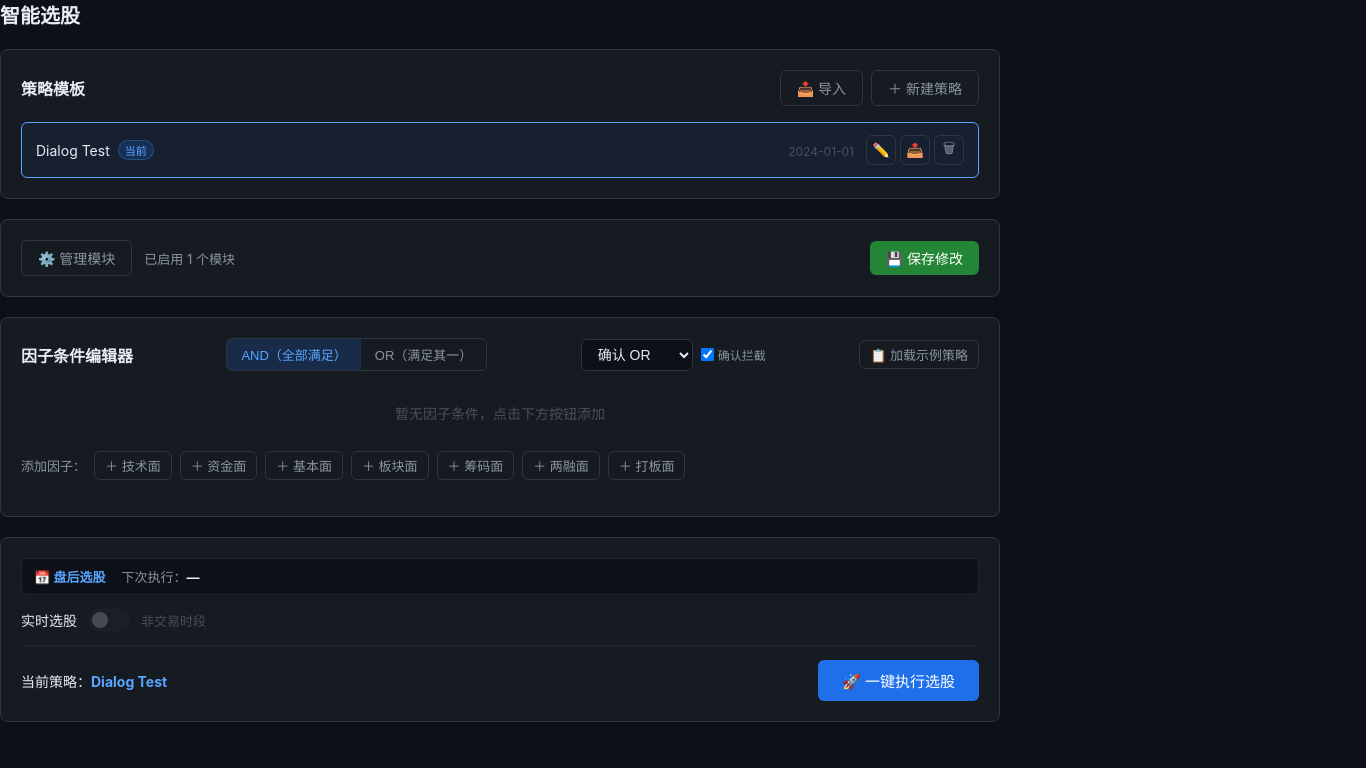
Test case: ScreenerView - strategy example loader › opens strategy example dialog when button is clicked
Click the button with class "btn-outline" showing "📋 加载示例策略": {"x": 919, "y": 354} [859,340,979,369]
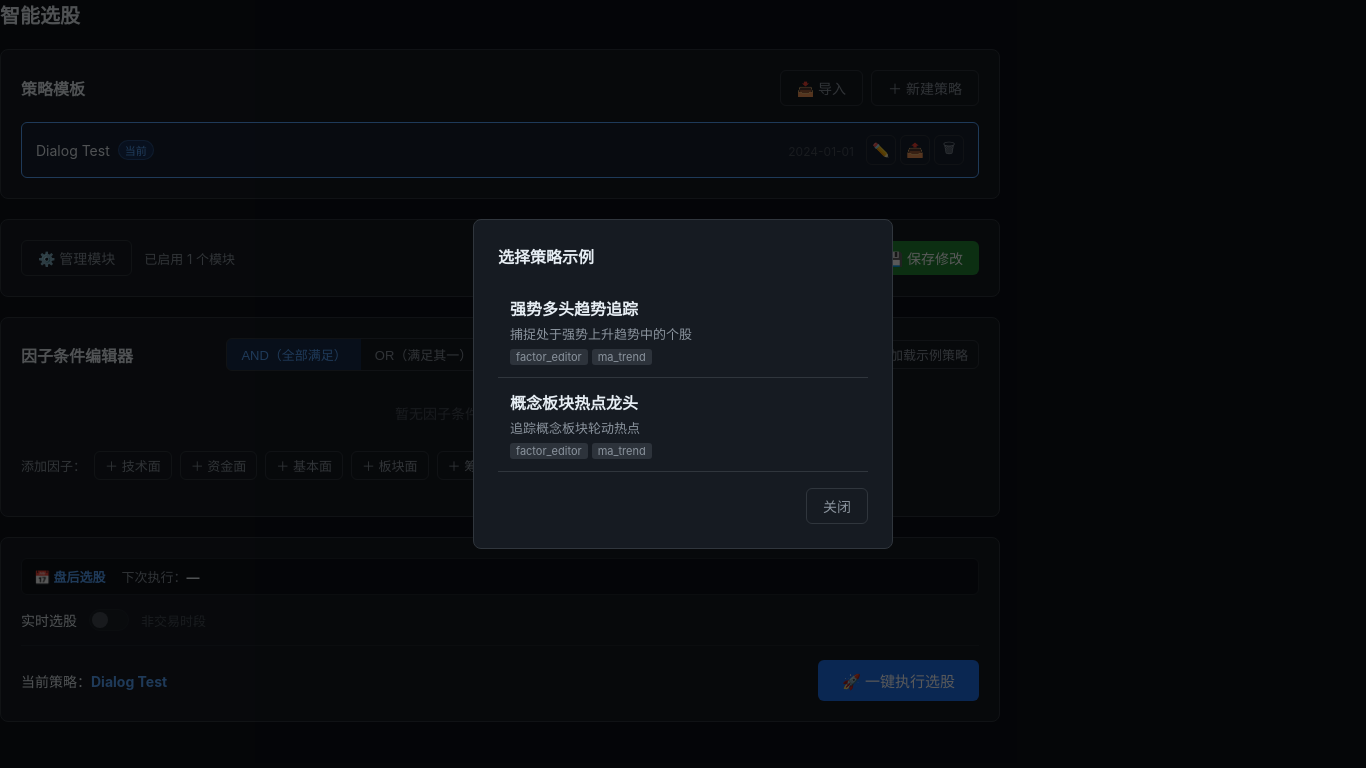
expect the dialog named "加载示例策略" is shown: met, box [473,219,893,549]
expect the number of elements with class "example-item" is 2: met, box [498,284,868,378]; [498,378,868,472]
expect the text with class "example-name" reads "强势多头趋势追踪": met, box [510,299,638,319]
